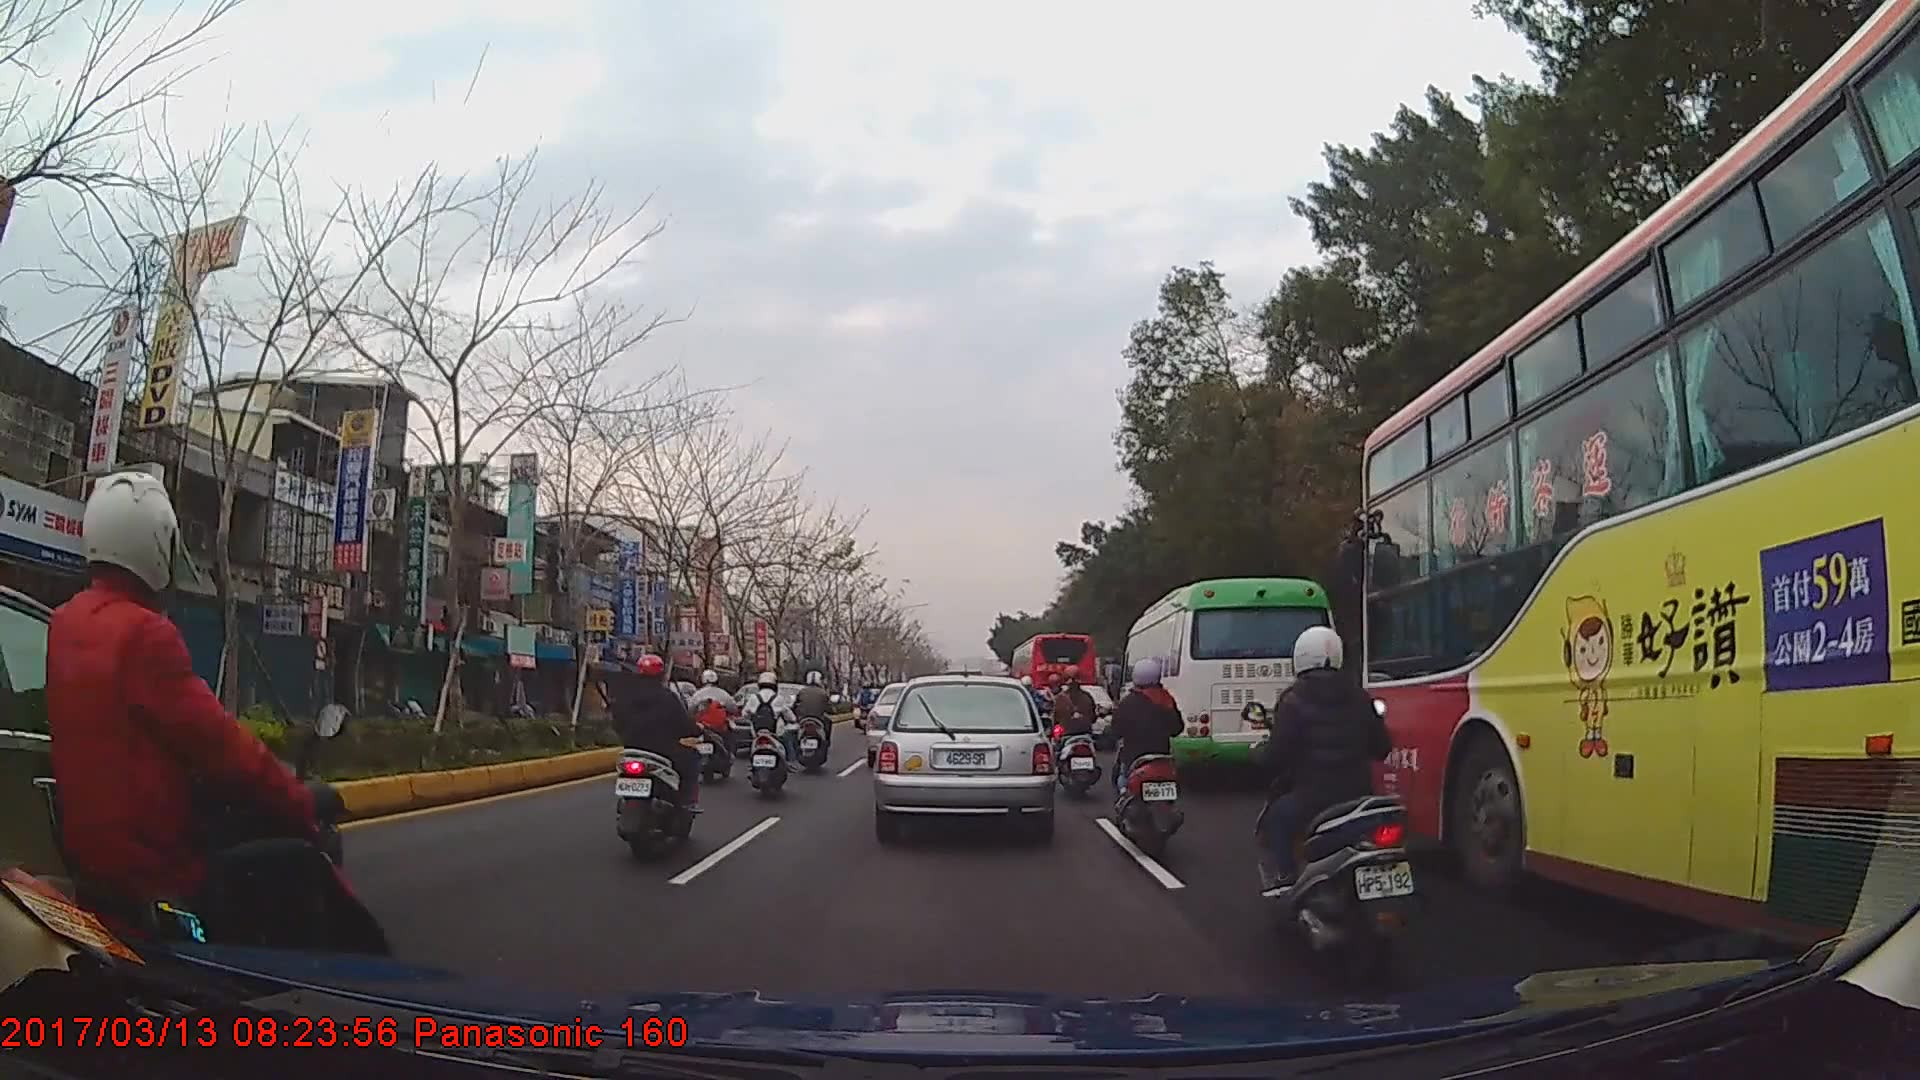rider: (9, 464, 392, 1051), (1252, 624, 1415, 972), (613, 654, 703, 861), (1109, 657, 1196, 865), (745, 673, 798, 799), (688, 669, 742, 786), (1050, 664, 1099, 791), (796, 672, 838, 773), (858, 682, 879, 721)
vehicle: (1359, 0, 1920, 1002), (0, 586, 338, 965), (1119, 576, 1343, 786), (874, 674, 1053, 838), (1012, 629, 1099, 732)
